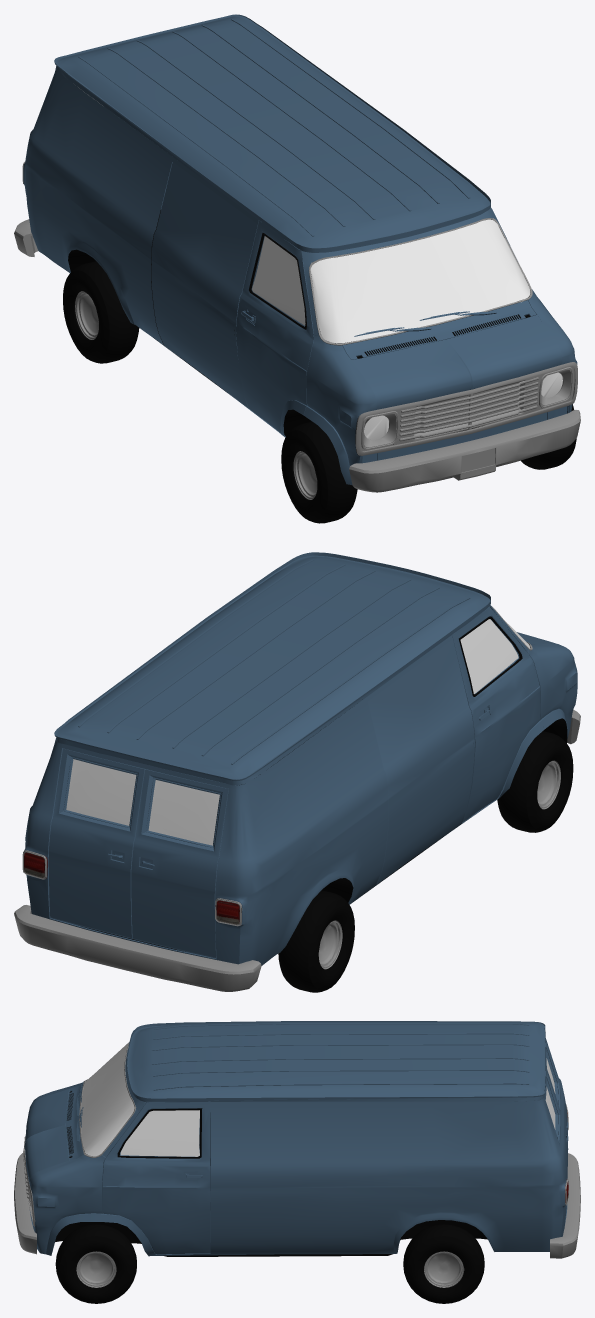
The model's file is Van.fbx.
3 renders of one model, top to bottom at view 1: azimuth 30°, elevation 25°; view 2: azimuth 150°, elevation 25°; view 3: azimuth 270°, elevation 25°, orthographic. The views are drawn at different scales.
Parts seen in each view (by area): view 1: Van; view 2: Van; view 3: Van.
Part boxes in pixels (x1=…): Van: x1=14, y1=14, x2=580, y2=523; Van: x1=14, y1=552, x2=580, y2=992; Van: x1=14, y1=1021, x2=580, y2=1303.
Bounding box in the file's own units: 483 × 194 × 200.
